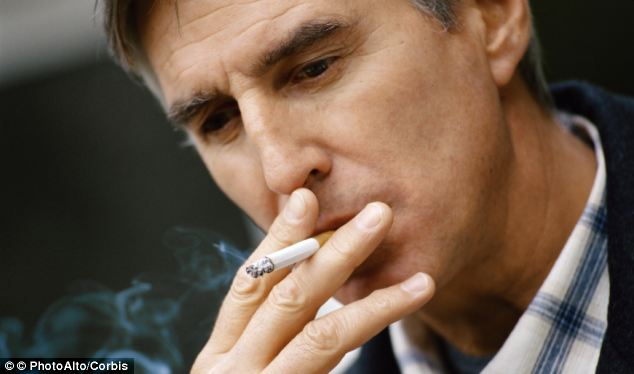cigarette: (243, 223, 349, 290)
